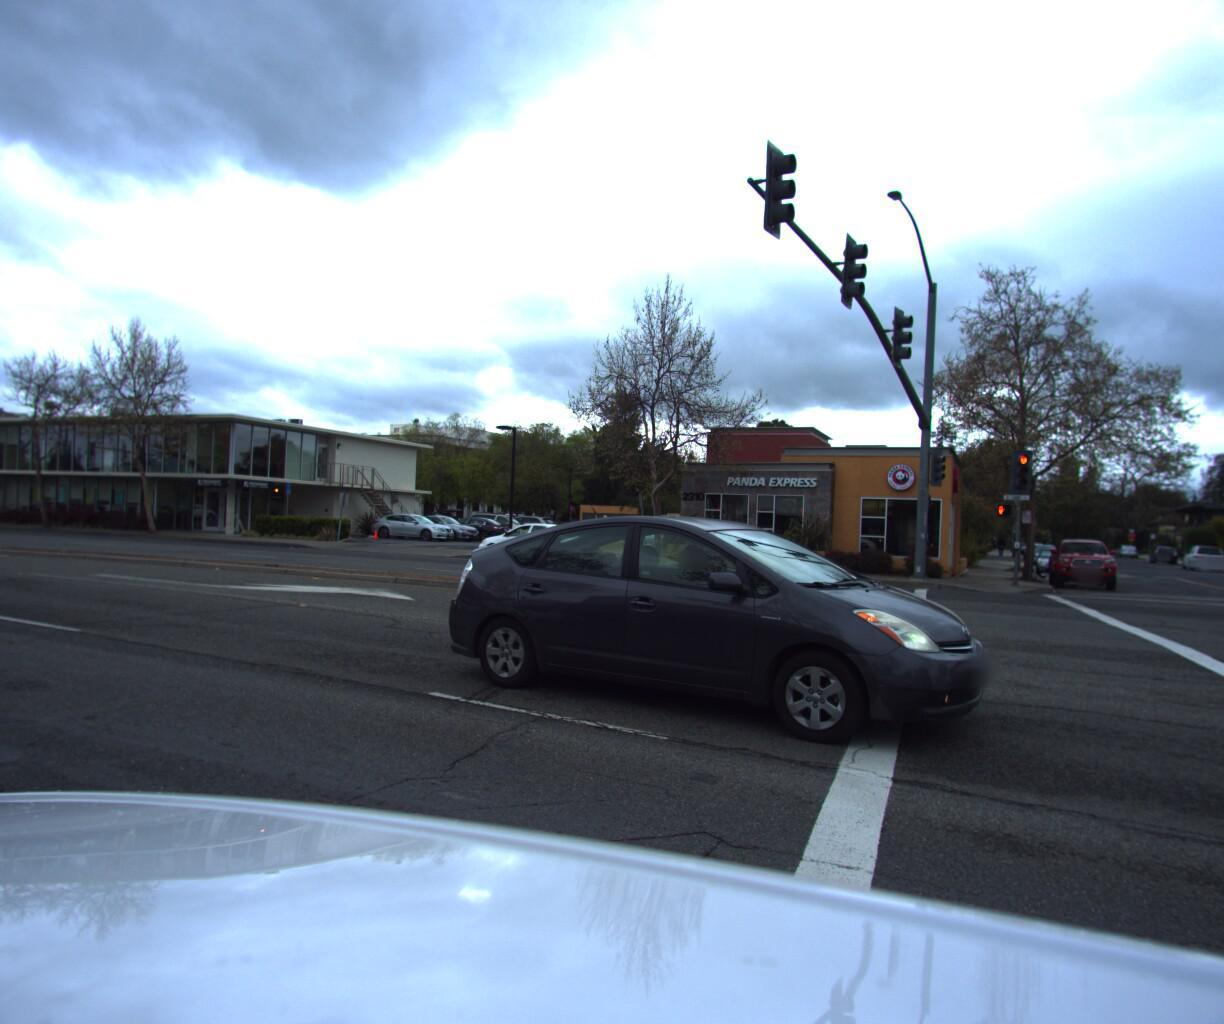car: (434, 491, 1046, 765), (467, 524, 602, 579), (1040, 545, 1116, 601), (1173, 551, 1224, 581), (1027, 558, 1068, 588), (1143, 553, 1179, 574)
